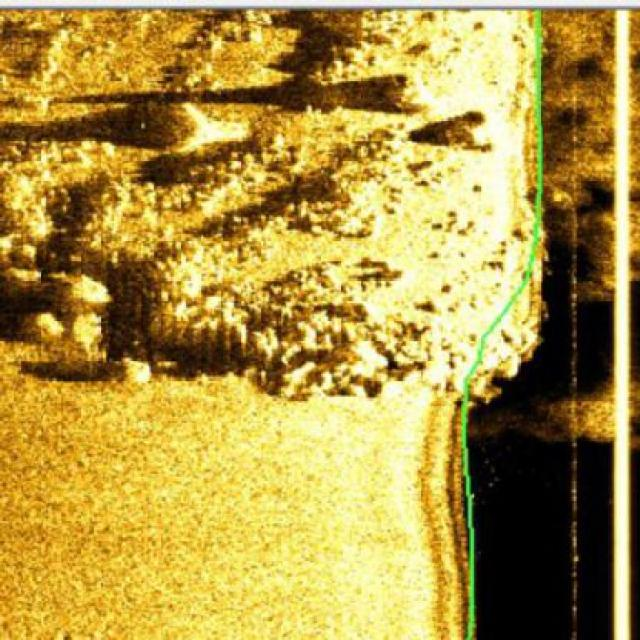bedrock group: (0, 6, 542, 400)
